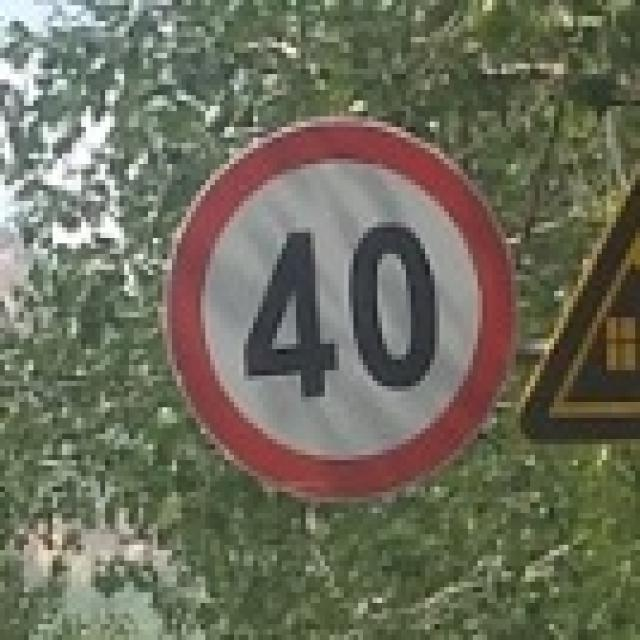Speed Limit -40-: (239, 216, 446, 403)
